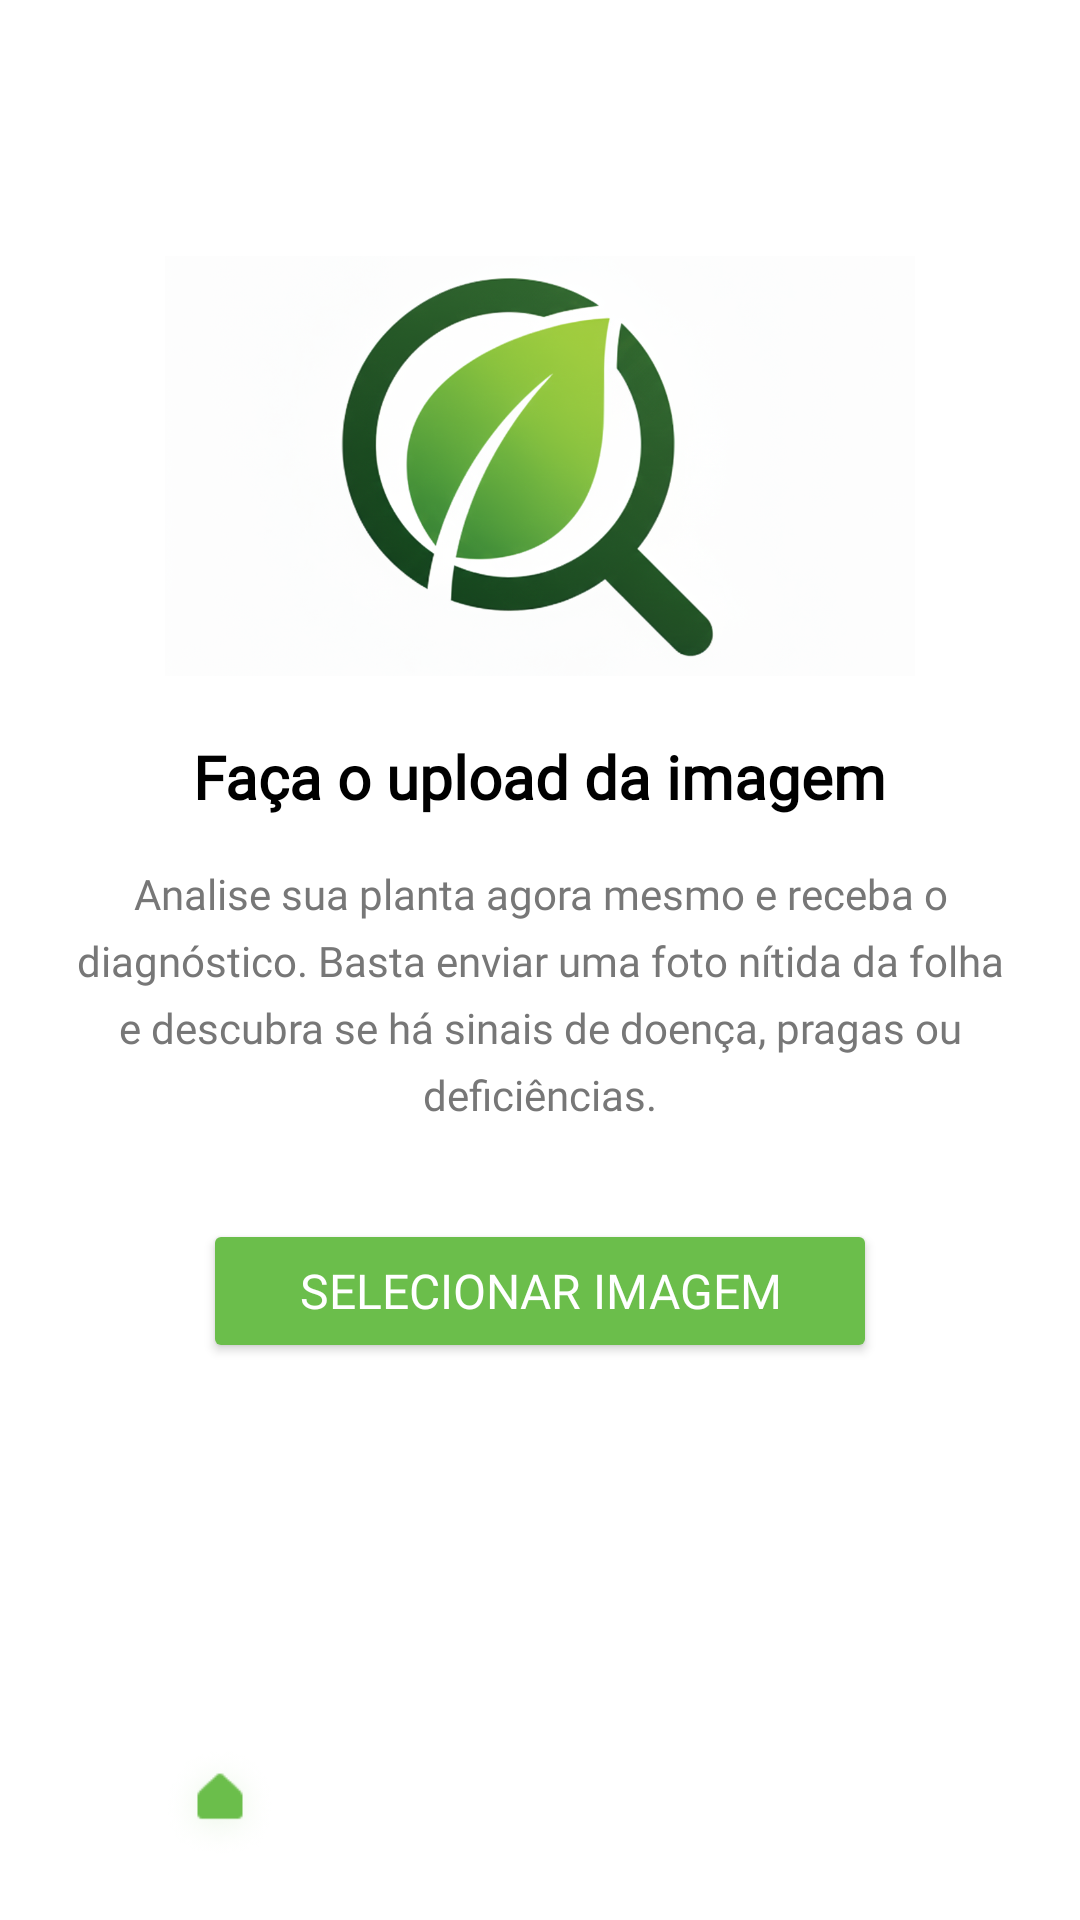

Named icons in this screenshot (1080px×1920px) and their bounding boxes, (x1, y1, x2, y2):
home: (197, 1773, 243, 1820)
